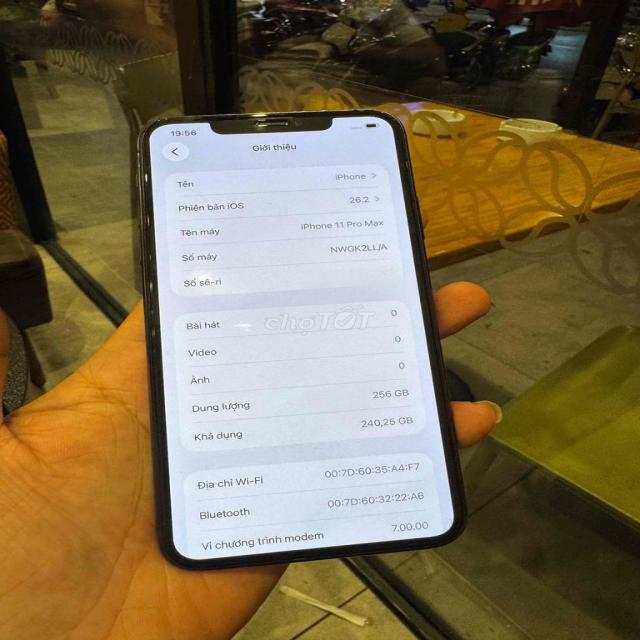gen_11: (138, 109, 463, 569)
